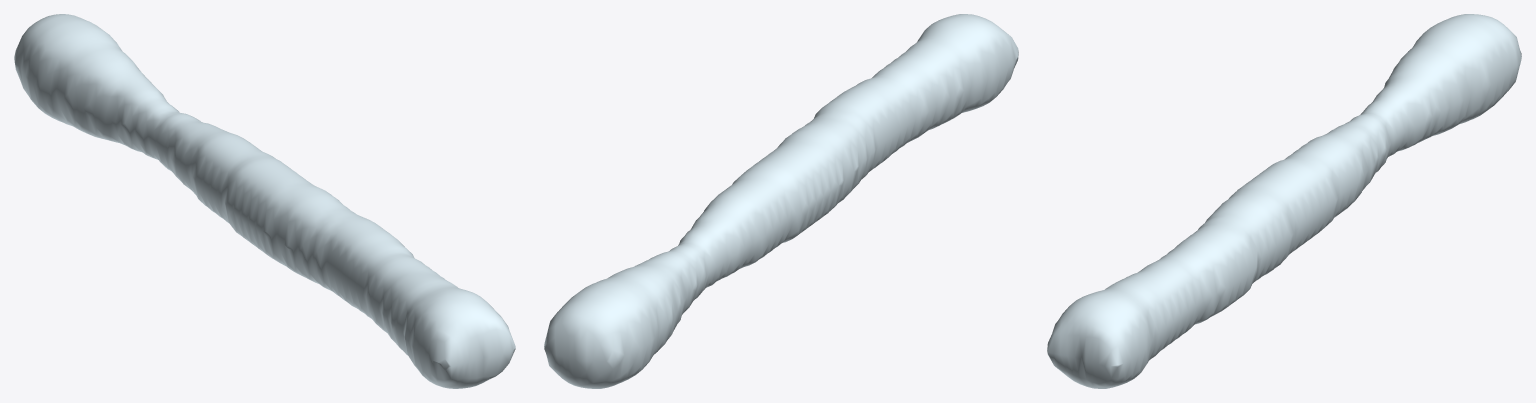
The model's file is Snow Divider Thin 2.fbx.
The picture shows the model from 3 angles, left to right: view 1: azimuth 30°, elevation 25°; view 2: azimuth 150°, elevation 25°; view 3: azimuth 330°, elevation 25°; orthographic projection.
Parts seen in each view (by area): view 1: root; view 2: root; view 3: root.
Part boxes in pixels (x1,y1,x2,y2): root: [14, 14, 515, 388]; root: [544, 14, 1018, 388]; root: [1047, 14, 1521, 388].
Bounding box in the file's own units: 0.0329 × 0.0305 × 0.2654.
1 material, 1 textured.
